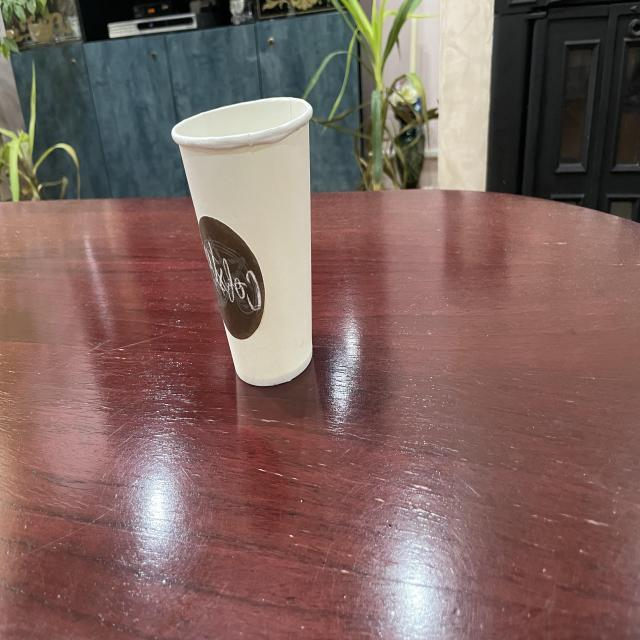big: (165, 85, 329, 398)
